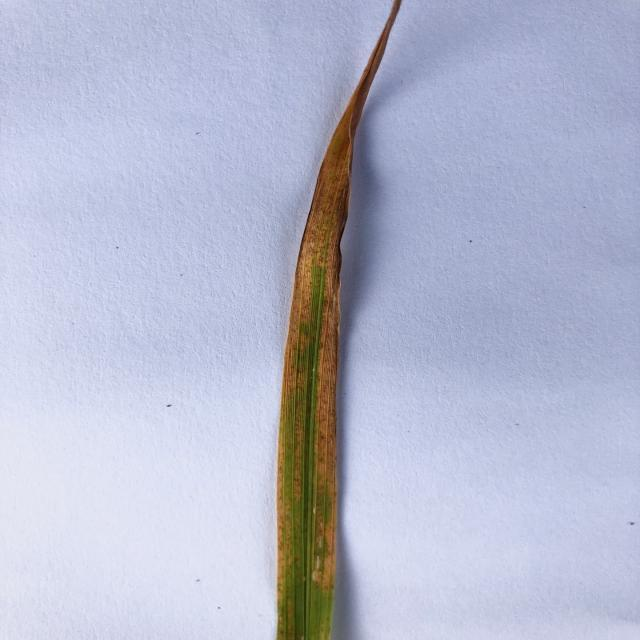Rice Tungro: (312, 290, 341, 576), (276, 289, 305, 511)
